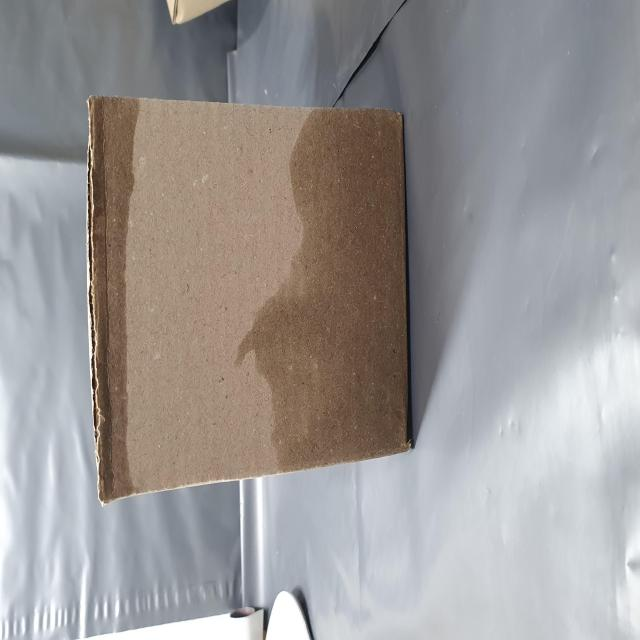wet: (102, 427, 301, 640), (88, 168, 302, 269)
